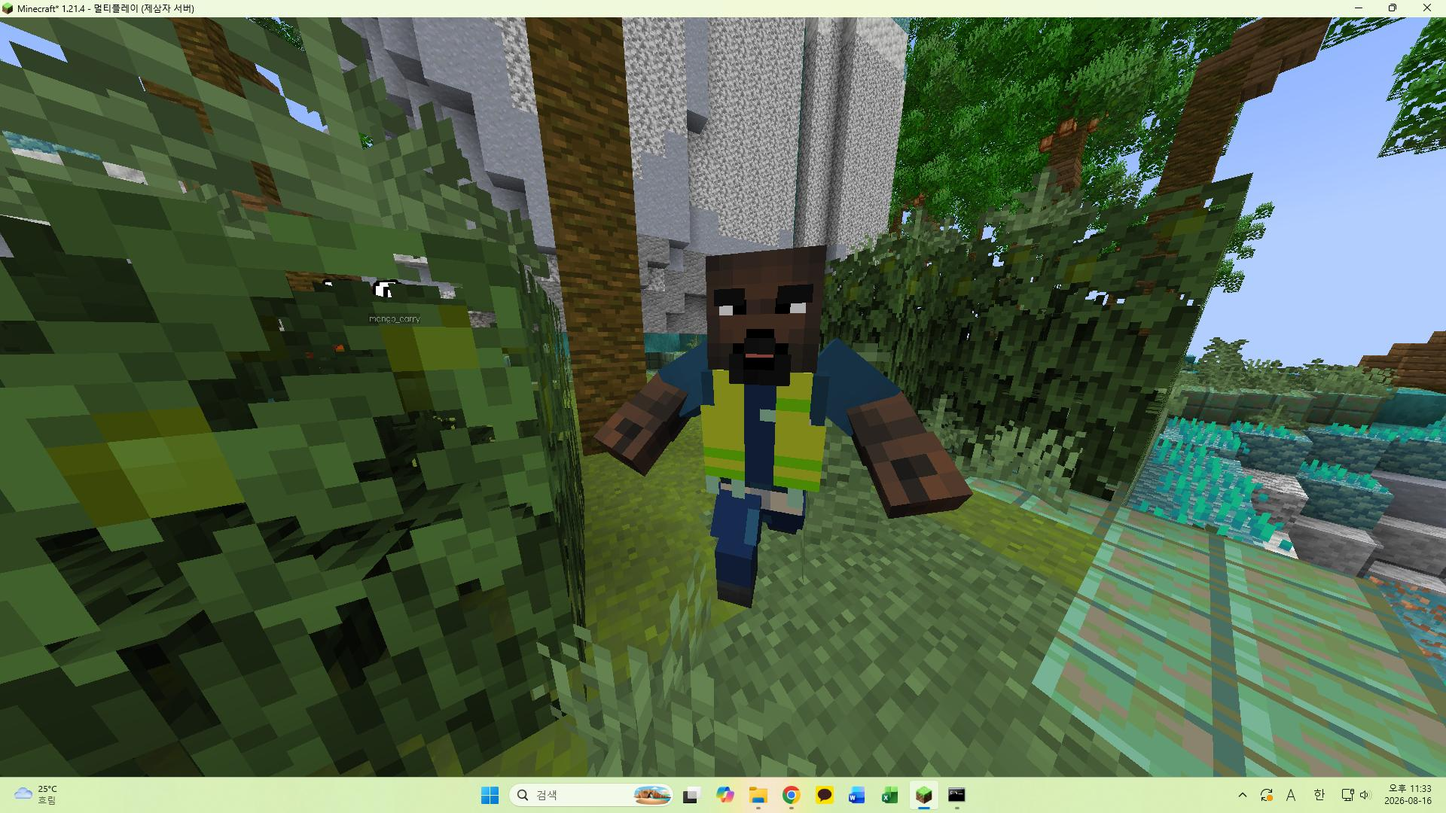Guardian: (594, 245, 971, 607)
